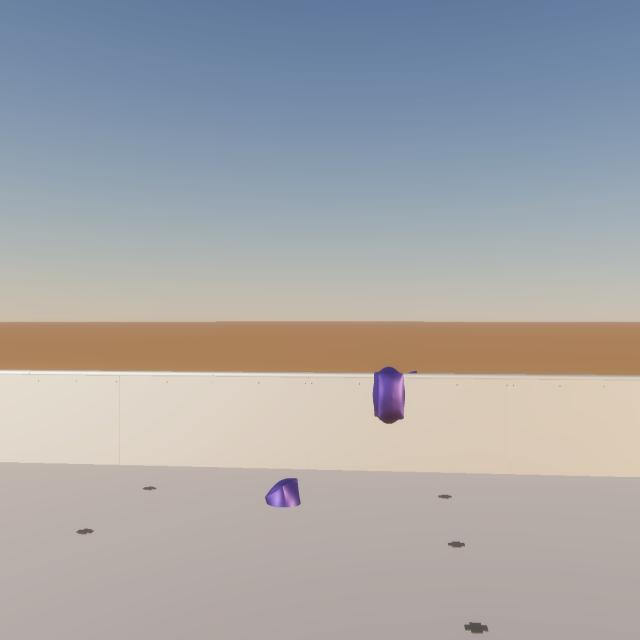frc_cube: (373, 367, 405, 424), (265, 478, 301, 507), (407, 371, 417, 374)
